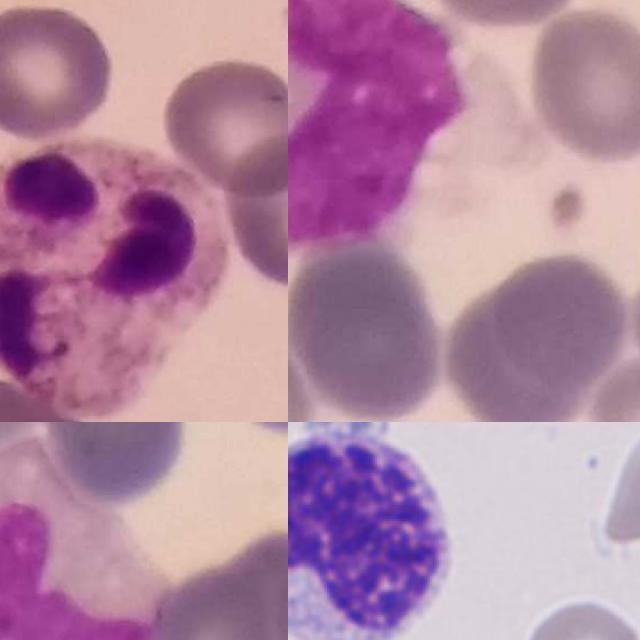Lymphocyte: (288, 422, 465, 640)
Monocyte: (288, 0, 543, 257), (0, 434, 176, 640)
Neutrophil: (0, 137, 230, 419)
RBC: (517, 590, 640, 640), (597, 422, 640, 553)
